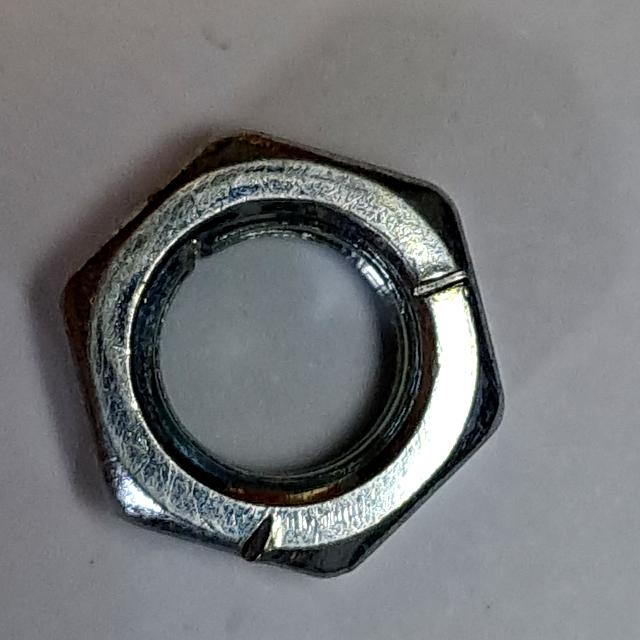Scratches: (42, 113, 524, 604)
